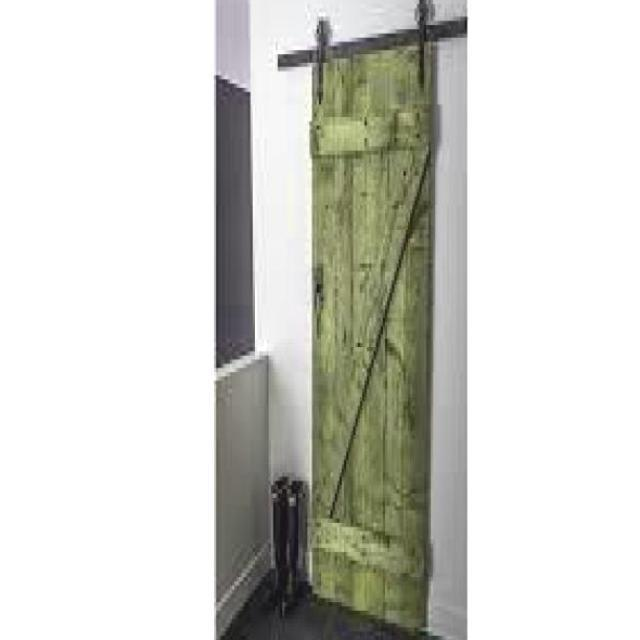door: (300, 0, 454, 635)
